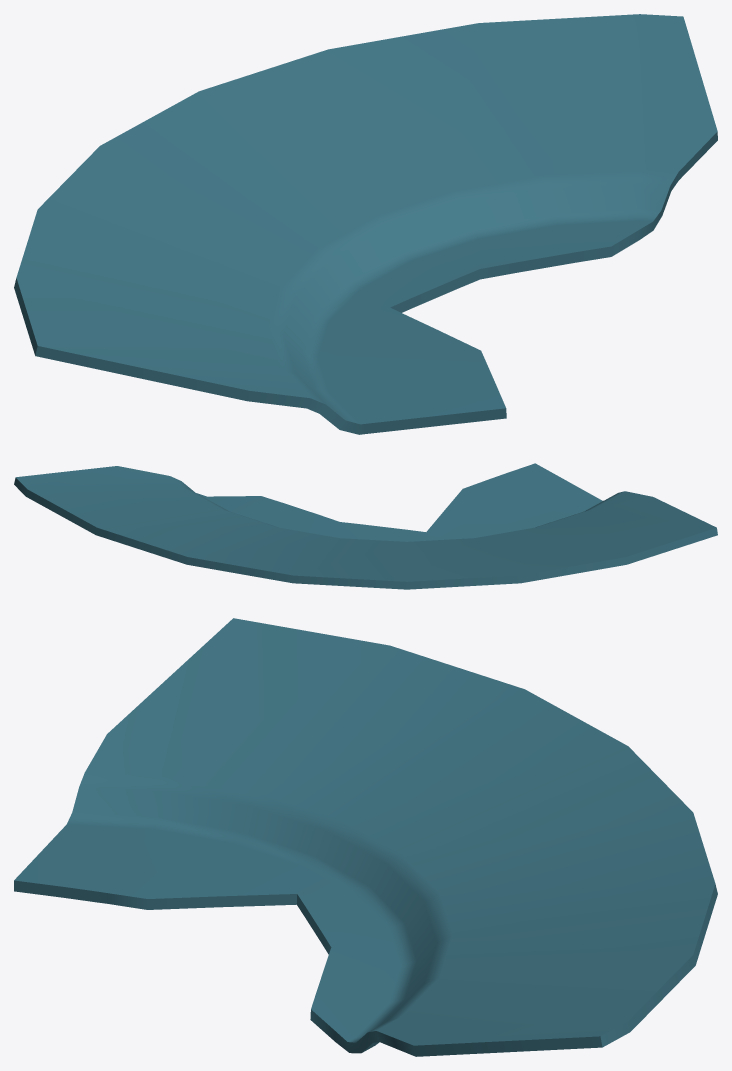
File: SM_SmallTrashkit_Plat3_002.fbx
3 renders of one model, top to bottom at view 1: azimuth 30°, elevation 25°; view 2: azimuth 150°, elevation 25°; view 3: azimuth 270°, elevation 25°, orthographic. The views are drawn at different scales.
Parts seen in each view (by area): view 1: SM_SmallTrashkit_Plat3_002; view 2: SM_SmallTrashkit_Plat3_002; view 3: SM_SmallTrashkit_Plat3_002.
Part boxes in pixels (box(x1,y1,x2,y2)): SM_SmallTrashkit_Plat3_002: box(14, 14, 717, 434); SM_SmallTrashkit_Plat3_002: box(14, 463, 717, 589); SM_SmallTrashkit_Plat3_002: box(14, 618, 717, 1056).
Bounding box in the file's own units: 32.88 × 3.41 × 23.29.
